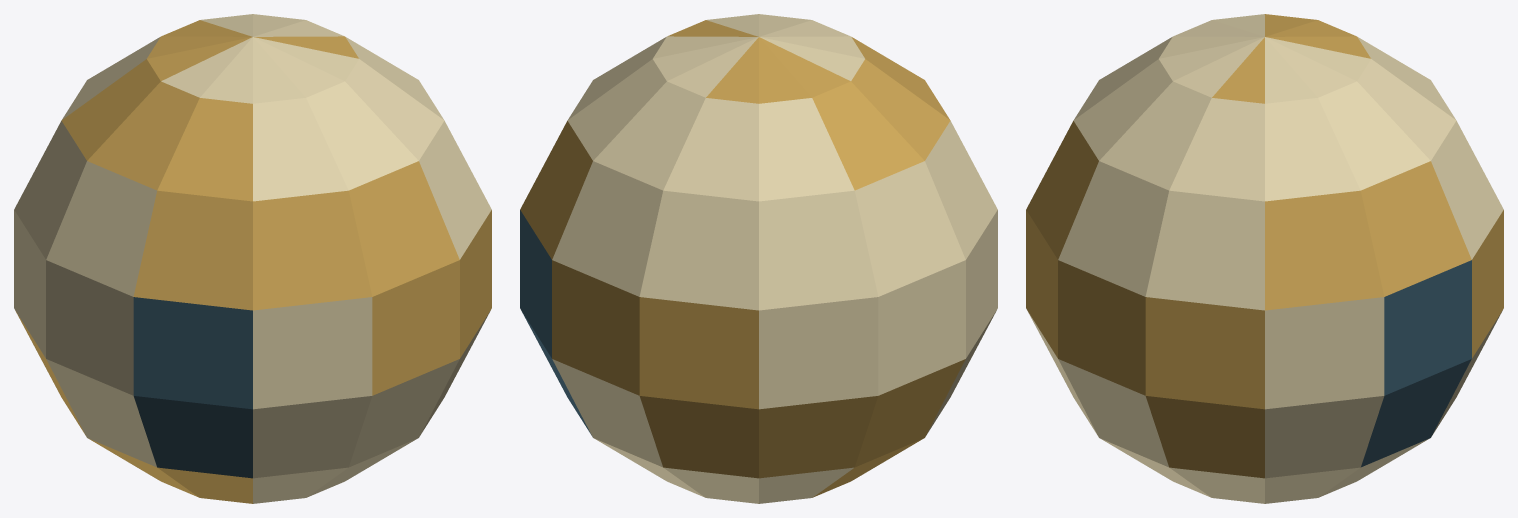
The model's file is ball-volleyball.glb.
The picture shows the model from 3 angles, left to right: view 1: azimuth 30°, elevation 25°; view 2: azimuth 150°, elevation 25°; view 3: azimuth 270°, elevation 25°; orthographic projection.
Visible parts, largest first — view 1: ball-volleyball; view 2: ball-volleyball; view 3: ball-volleyball.
Part boxes in pixels (x1,y1,x2,y2): ball-volleyball: (14,14,491,503); ball-volleyball: (520,14,997,503); ball-volleyball: (1026,14,1503,503).
Bounding box in the file's own units: 0.2125 × 0.218 × 0.2125.
1 material, 1 textured.
